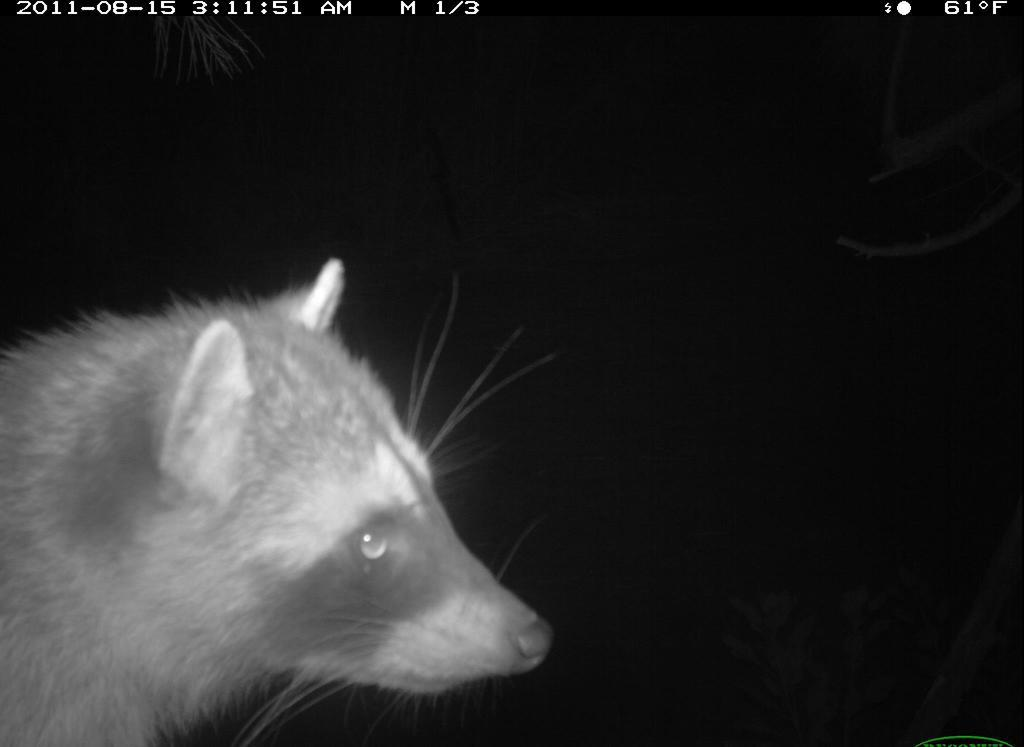raccoon: (11, 239, 577, 735)
